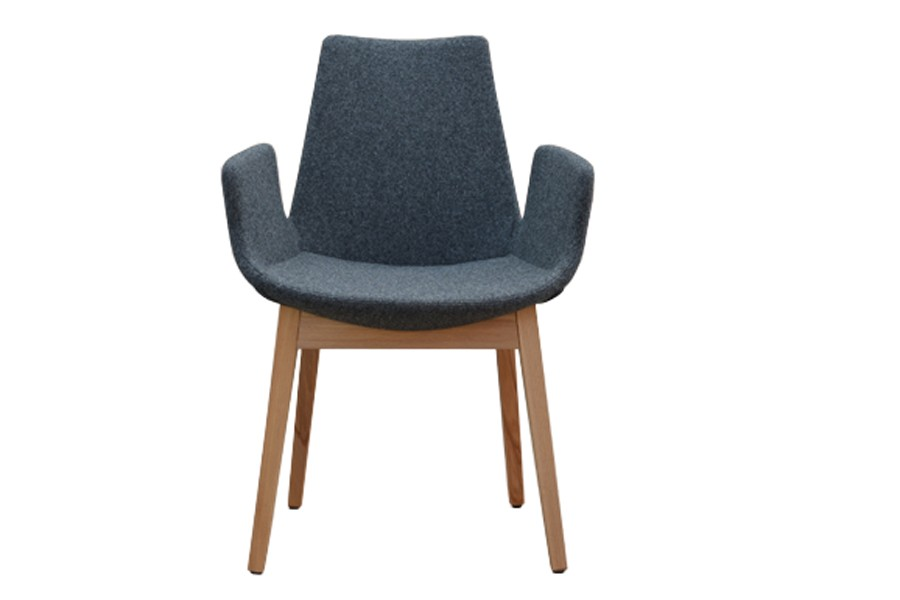chairs: (217, 29, 600, 580)
